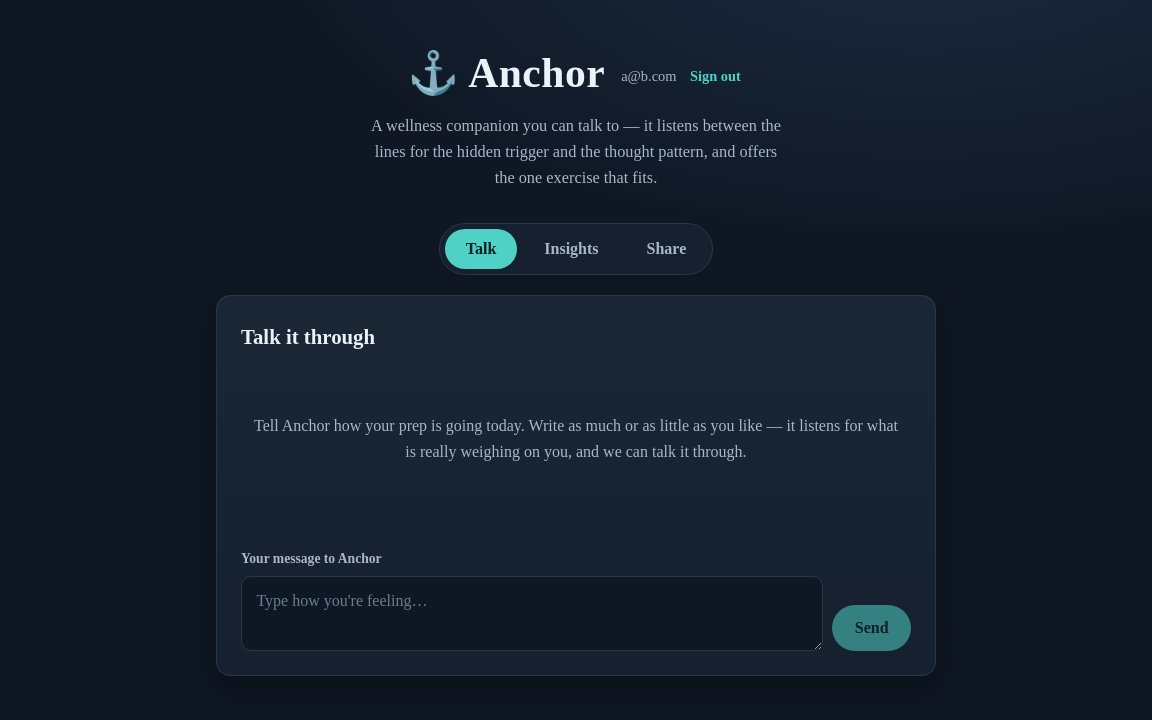
Scenario: App › switches to the Insights tab and shows the dashboard + journal empty states
Expected: the heading "Talk it through" is shown, [241,325,375,348]
Click the button "Insights" at (571, 249), box [524,229,619,269]
(page scrolled)
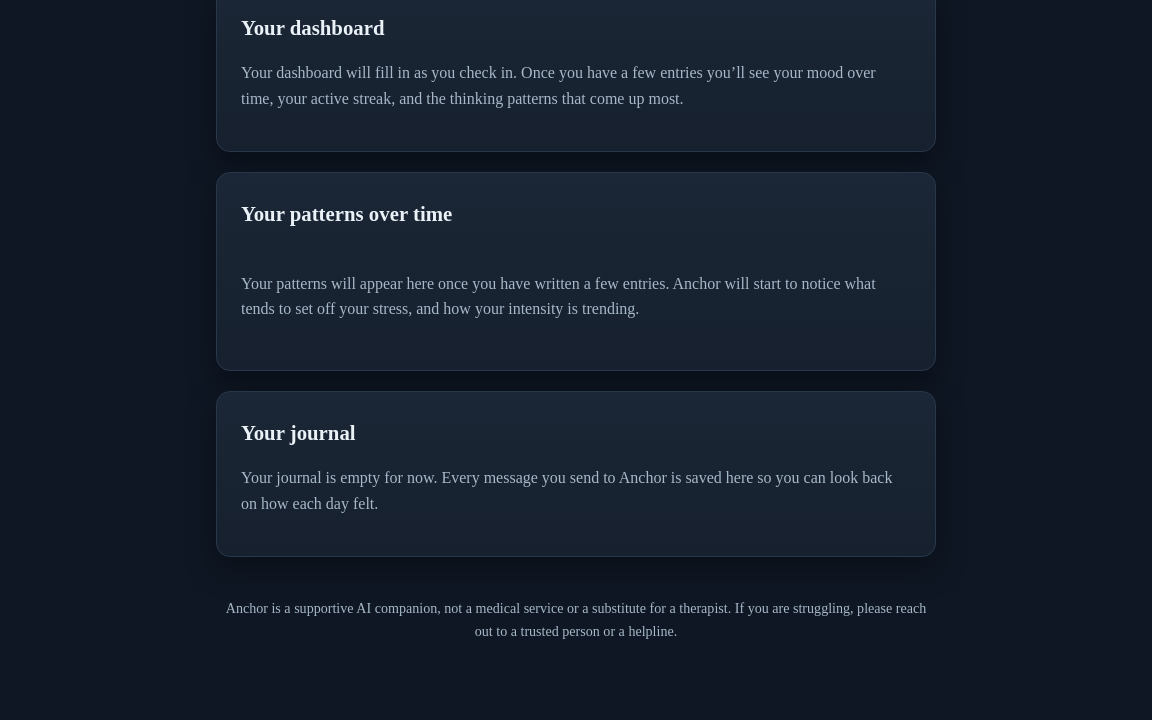
Expected: the heading "Your dashboard" is shown, [241,16,384,39]
Expected: the text "dashboard will fill in" is shown, [241,64,876,107]
Expected: the text "journal is empty" is shown, [241,469,892,512]
